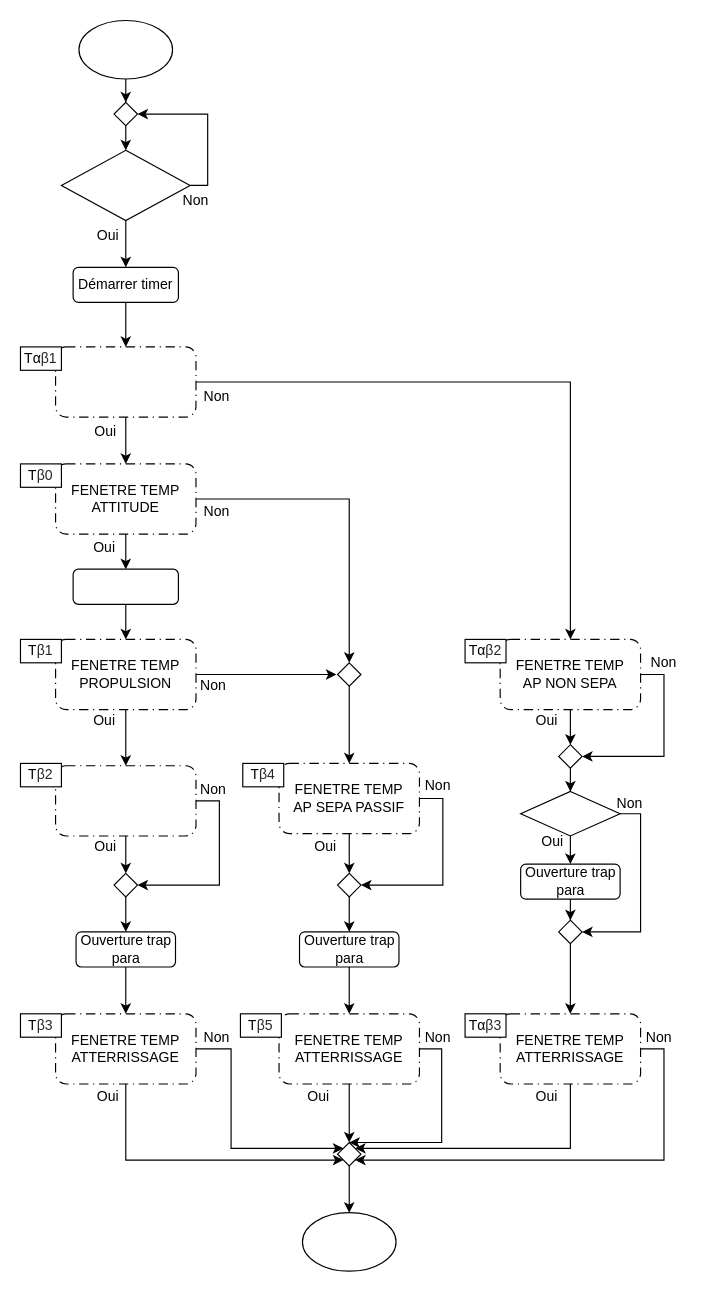
The diagram is 720 pixels wide and 1292 high, and some of its shapes have lost their labels. Each missing label, with the centre of its shape:
Alumage: point (125, 586)
Début: point (125, 49)
FENETRE TEMP AP SEPA ACTIF: point (125, 800)
FENETRE TEMP SEPARATION: point (125, 381)
FIN: point (348, 1241)
Jack arraché: point (125, 185)
SEPA: point (569, 813)
